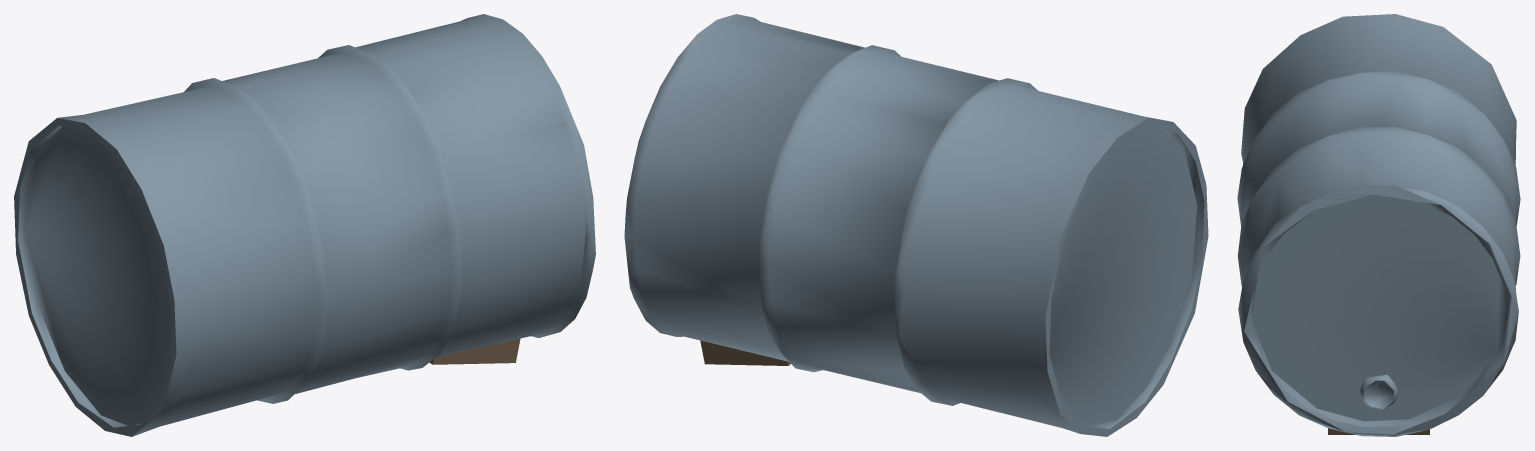
The model's file is Dress_BarrelToppled.fbx.
3 views of the same model, side by side, from view 1: azimuth 30°, elevation 25°; view 2: azimuth 150°, elevation 25°; view 3: azimuth 270°, elevation 25° (orthographic). The views are drawn at different scales.
Parts seen in each view (by area): view 1: Dress_BarrelToppled; view 2: Dress_BarrelToppled; view 3: Dress_BarrelToppled.
Part boxes in pixels (x1,y1,x2,y2): Dress_BarrelToppled: (14, 14, 595, 436); Dress_BarrelToppled: (624, 14, 1208, 436); Dress_BarrelToppled: (1237, 14, 1520, 436).
Bounding box in the file's own units: 89.15 × 62.55 × 61.17.
